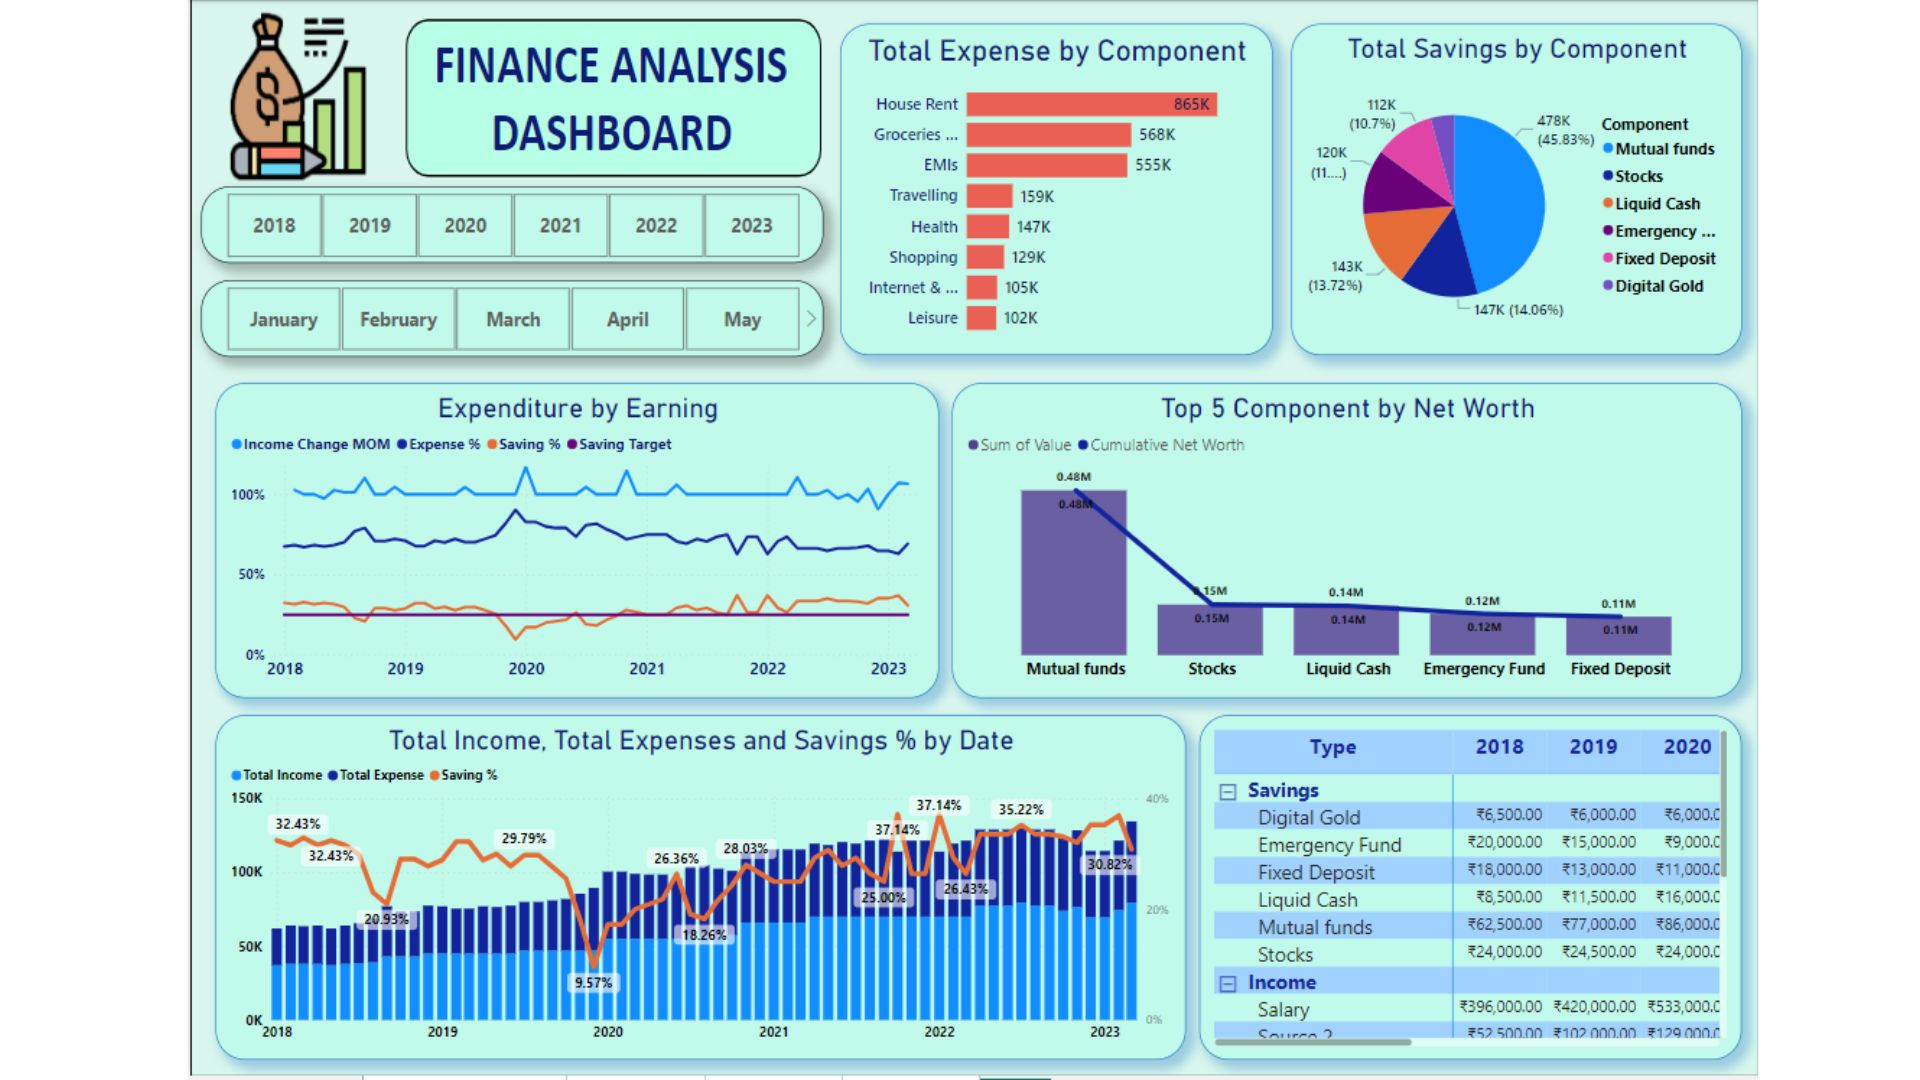

This screenshot's page, from the dashboard's own definition file:
{"tool":"powerbi","page":{"name":"DASHBOARD","canvas":[1600,1100],"ordinal":0},"visuals":[{"type":"slicer","fields":{"Values":["FinanceData.Date.Variation.Date Hierarchy.Year"]},"box":[11.7,191.7,635,78.3],"z":0},{"type":"slicer","fields":{"Values":["FinanceData.Date.Variation.Date Hierarchy.Month"]},"box":[11.7,286.7,635,78.3],"z":1},{"type":"clusteredBarChart","title":"Total Expense by Component","fields":{"Category":["FinanceData.Component"],"Y":["measures (2).Total Expense"]},"box":[663.3,26.7,441.7,338.3],"z":2},{"type":"pieChart","title":"Total Savings by Component","fields":{"Category":["FinanceData.Component"],"Y":["measures (2).Total Savings"]},"box":[1123.3,26.7,460,338.3],"z":3},{"type":"lineChart","title":"Expenditure by Earning","fields":{"Category":["FinanceData.Date"],"Y":["measures (2).Income Change MOM","measures (2).Expense %","measures (2).Saving %","measures (2).Saving Target"]},"box":[26.7,391.7,738.3,321.7],"z":4},{"type":"lineStackedColumnComboChart","title":"Total Income, Total Expenses and Savings % by Date","fields":{"Category":["FinanceData.Date"],"Y":["measures (2).Total Income","measures (2).Total Expense"],"Y2":["measures (2).Saving %"]},"box":[26.7,731.7,990,351.7],"z":5},{"type":"lineClusteredColumnComboChart","title":"Top 5 Component by Net Worth ","fields":{"Y2":["measures (2).Cumulative Net Worth"],"Category":["FinanceData.Component"],"Y":["Sum(FinanceData.Value)"]},"box":[776.7,391.7,806.7,321.7],"z":6},{"type":"pivotTable","title":"Detailed Statement","fields":{"Rows":["FinanceData.Type","FinanceData.Component"],"Values":["measures (2).Values"],"Columns":["FinanceData.Year","FinanceData.Date"]},"box":[1030,731.7,553.3,351.7],"z":7}]}

Visuals, with their boxes on the page's 1600x1100 design canvas (x1, y1, x2, y2). These are canvas units, not pixel positions in the 1920x1080 screenshot, which may show the page scaled, cropped or inside an application window:
slicer - FinanceData.Date.Variation.Date Hierarchy.Year: region(12, 192, 647, 270)
slicer - FinanceData.Date.Variation.Date Hierarchy.Month: region(12, 287, 647, 365)
"Total Expense by Component" clusteredBarChart: region(663, 27, 1105, 365)
"Total Savings by Component" pieChart: region(1123, 27, 1583, 365)
"Expenditure by Earning" lineChart: region(27, 392, 765, 713)
"Total Income, Total Expenses and Savings % by Date" lineStackedColumnComboChart: region(27, 732, 1017, 1083)
"Top 5 Component by Net Worth " lineClusteredColumnComboChart: region(777, 392, 1583, 713)
"Detailed Statement" pivotTable: region(1030, 732, 1583, 1083)
